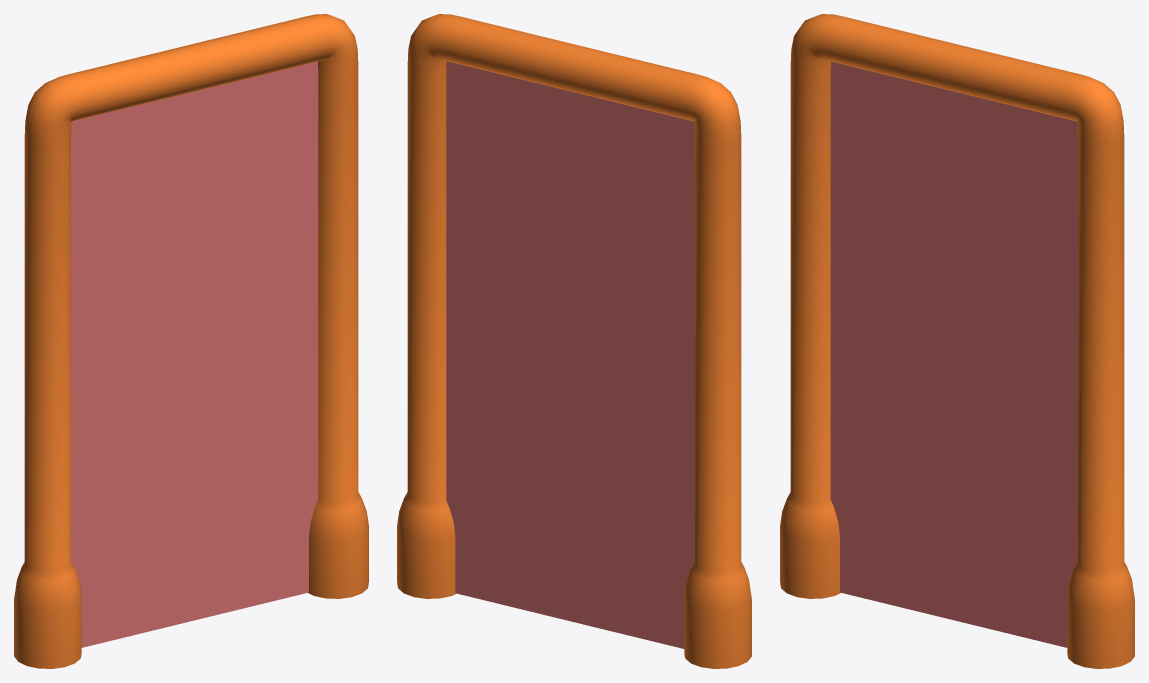
File: Doors_Orange_2.fbx
The picture shows the model from 3 angles, left to right: view 1: azimuth 30°, elevation 25°; view 2: azimuth 150°, elevation 25°; view 3: azimuth 330°, elevation 25°; orthographic projection.
Parts seen in each view (by area): view 1: Plane 1, Doors Framework; view 2: Plane 2, Doors Framework; view 3: Plane 1, Doors Framework.
Part boxes in pixels (bbox=[...]): Plane 1: bbox=[71, 61, 318, 647]; Doors Framework: bbox=[14, 14, 368, 668]; Plane 2: bbox=[446, 61, 694, 648]; Doors Framework: bbox=[397, 14, 751, 668]; Plane 1: bbox=[830, 61, 1077, 647]; Doors Framework: bbox=[780, 14, 1134, 668].
Size of the model in its own units: 135 by 213 by 23.01.
2 materials, 2 textured.
